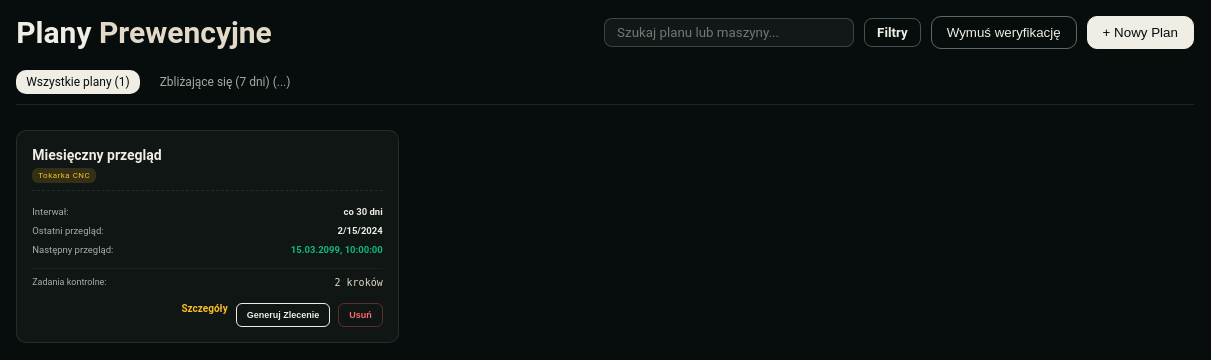
Test case: PreventivePage › akcje › handleDelete z potwierdzeniem usuwa plan z listy
This screenshot has width=1211, height=360.
Click the button "Usuń" at {"x": 360, "y": 315}, box [338,303,383,327]
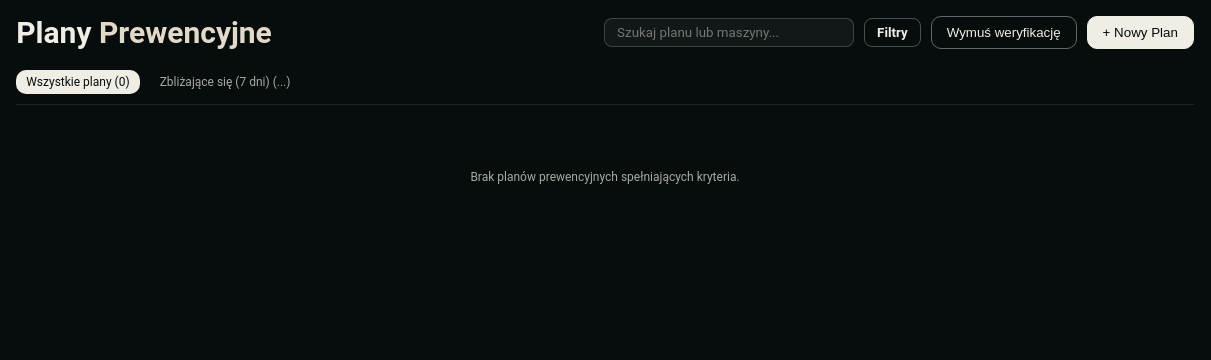
Now the heading "Miesięczny przegląd" is gone
